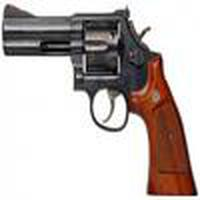gun: (3, 5, 198, 198)
